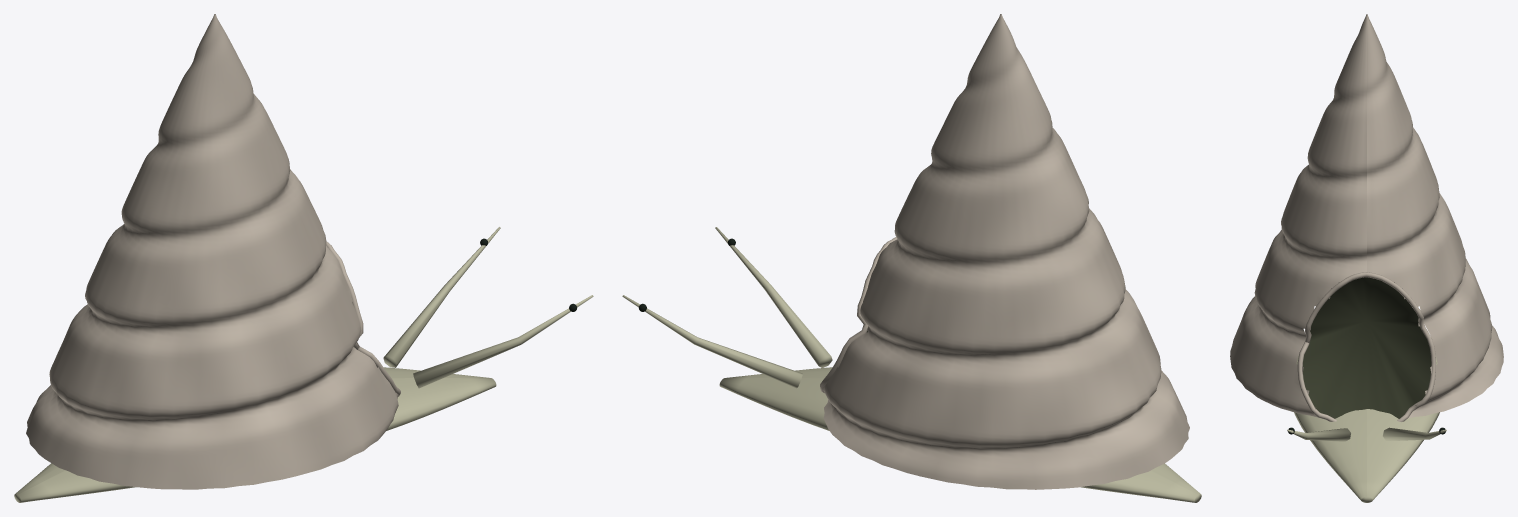
Rendered from trochus-desktop.glb.
The picture shows the model from 3 angles, left to right: view 1: azimuth 30°, elevation 25°; view 2: azimuth 150°, elevation 25°; view 3: azimuth 270°, elevation 25°; orthographic projection. The views are drawn at different scales.
Visible parts, largest first — view 1: connected-whorled-shell, muscular-foot, cephalic-tentacle, aperture-lip; view 2: connected-whorled-shell, muscular-foot, cephalic-tentacle, aperture-lip; view 3: connected-whorled-shell, recessed-aperture, muscular-foot, aperture-lip, cephalic-tentacle.
Part boxes in pixels (box(x1,y1,x2,y2)): connected-whorled-shell: box(26, 14, 398, 489); muscular-foot: box(14, 367, 496, 502); cephalic-tentacle: box(383, 227, 593, 388); aperture-lip: box(326, 241, 400, 396); connected-whorled-shell: box(823, 14, 1189, 489); muscular-foot: box(719, 367, 1201, 502); cephalic-tentacle: box(622, 227, 832, 388); aperture-lip: box(820, 237, 897, 393); connected-whorled-shell: box(1230, 14, 1503, 418); recessed-aperture: box(1303, 277, 1431, 418); muscular-foot: box(1294, 355, 1439, 502); aperture-lip: box(1297, 272, 1435, 421); cephalic-tentacle: box(1287, 427, 1446, 441).
Bounding box in the file's own units: 0.5905 × 0.469 × 0.3115.
